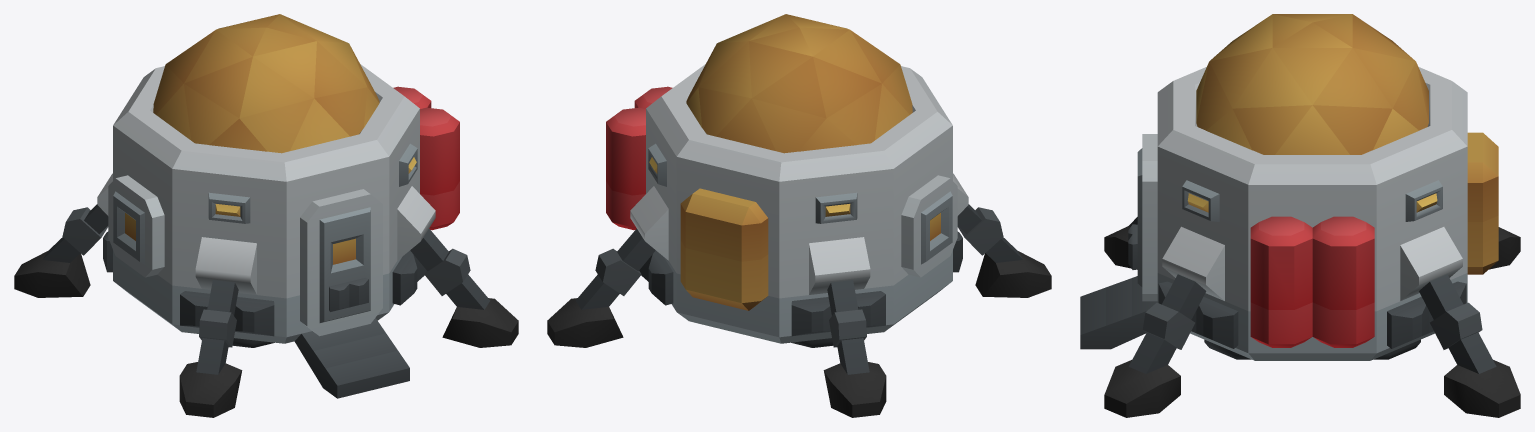
Rendered from space-lander-b.glb.
3 renders of one model, left to right at view 1: azimuth 30°, elevation 25°; view 2: azimuth 150°, elevation 25°; view 3: azimuth 270°, elevation 25°, orthographic. The views are drawn at different scales.
Visible parts, largest first — view 1: lander_B; view 2: lander_B; view 3: lander_B.
Part boxes in pixels (<box>): lander_B: <box>14,14,518,417</box>; lander_B: <box>547,14,1051,417</box>; lander_B: <box>1080,14,1520,417</box>.
Bounding box in the file's own units: 1.37 × 1.1 × 1.42.
